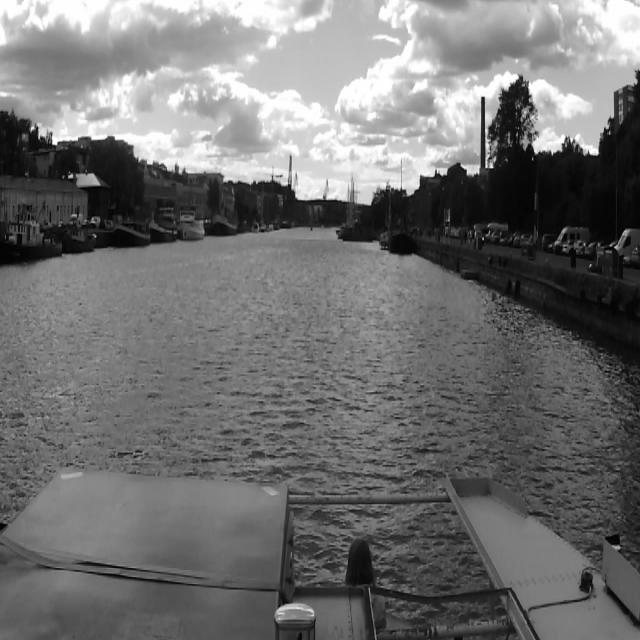ship: (6, 212, 60, 266), (62, 209, 96, 256), (113, 216, 149, 249), (180, 206, 204, 240), (150, 216, 178, 241), (339, 224, 373, 241), (388, 233, 414, 255), (212, 214, 236, 234), (252, 221, 258, 233)
